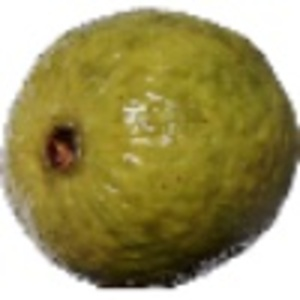goiaba: (2, 5, 295, 289)
